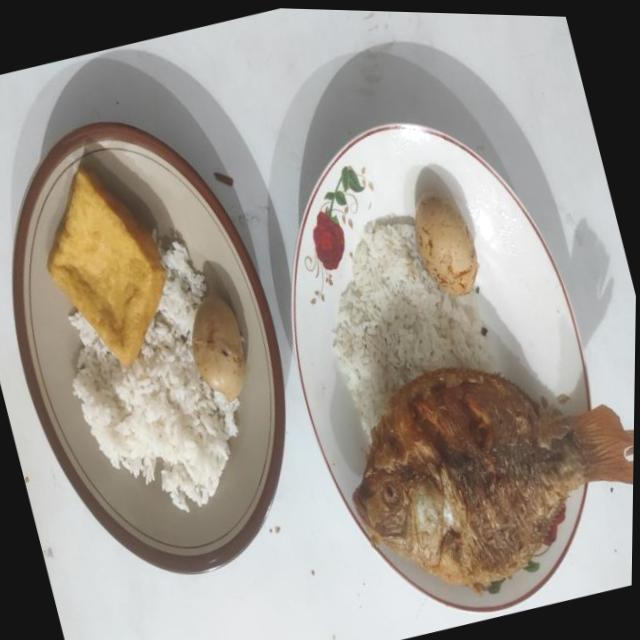ikan_mujair: (352, 366, 634, 594)
nasi_putih: (68, 242, 238, 512), (332, 215, 492, 440)
tahu_goreng: (46, 167, 166, 365)
